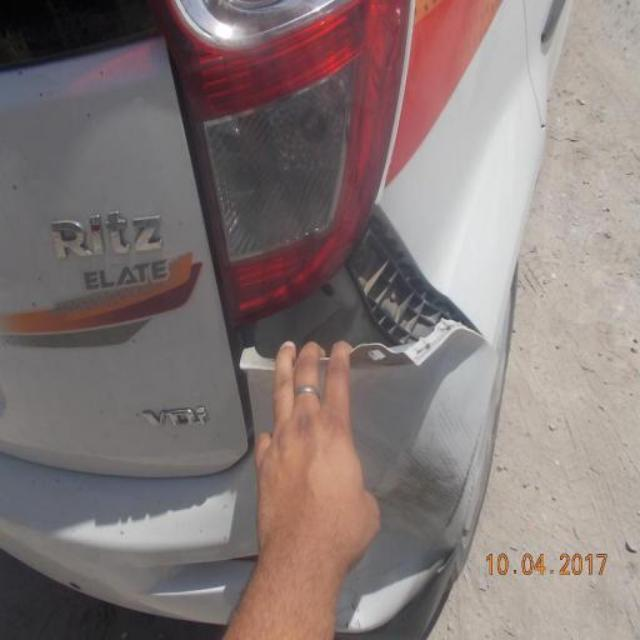dislocated part: (235, 205, 481, 368)
